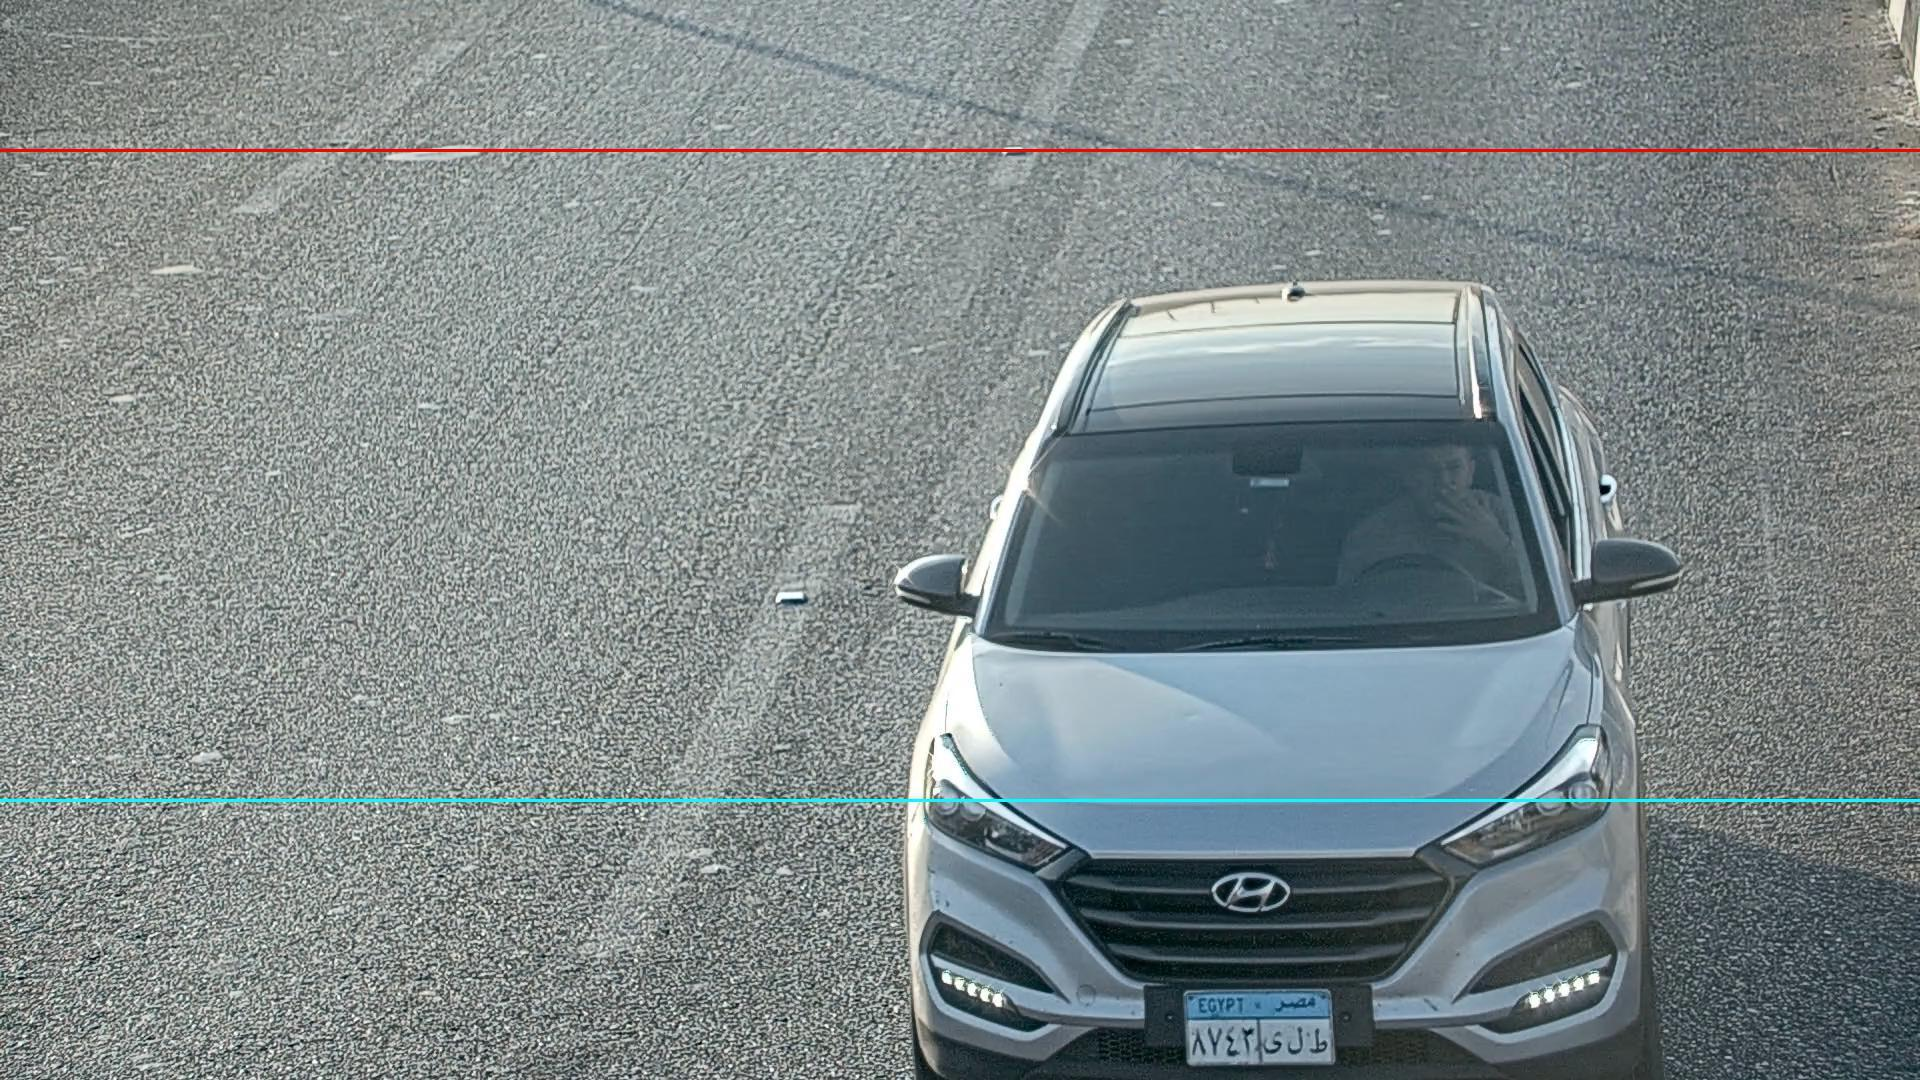windshield: (960, 397, 1584, 661)
